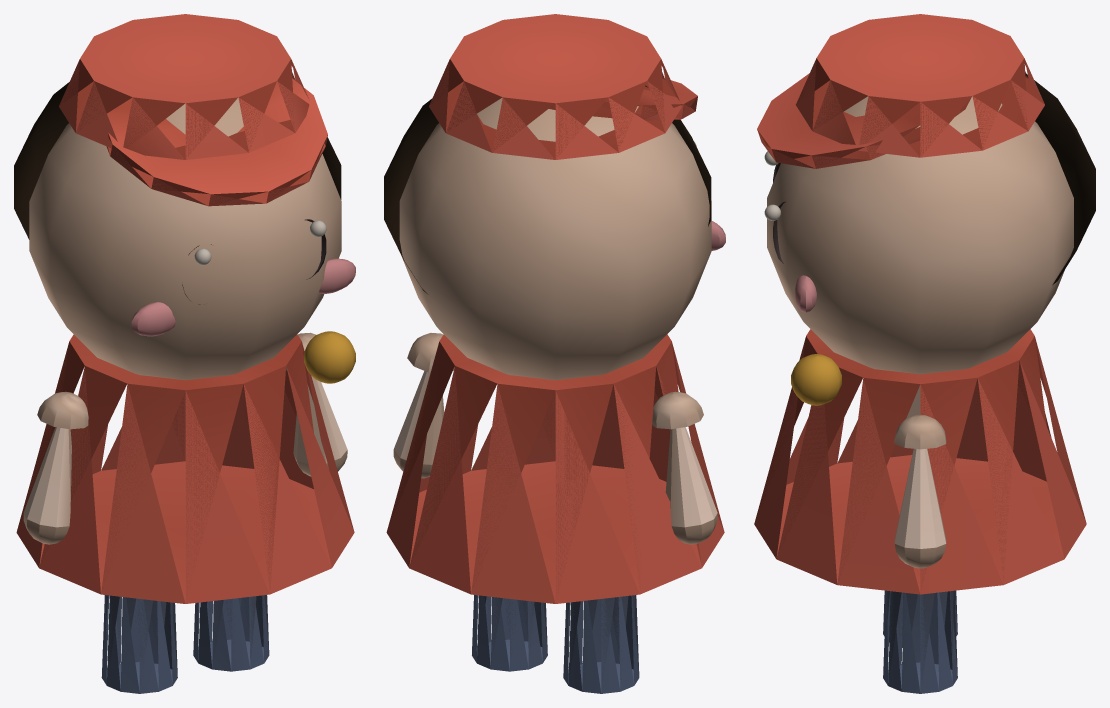
3 renders of one model, left to right at view 1: azimuth 30°, elevation 25°; view 2: azimuth 150°, elevation 25°; view 3: azimuth 270°, elevation 25°, orthographic.
Parts seen in each view (by area): view 1: pet_pb16c7903; view 2: pet_pb16c7903; view 3: pet_pb16c7903.
Part boxes in pixels (left/top/right/bottom): pet_pb16c7903: left=14, top=14, right=355, bottom=693; pet_pb16c7903: left=384, top=14, right=725, bottom=693; pet_pb16c7903: left=754, top=14, right=1095, bottom=693.
Size of the model in its own units: 0.3464 by 0.635 by 0.3287.
